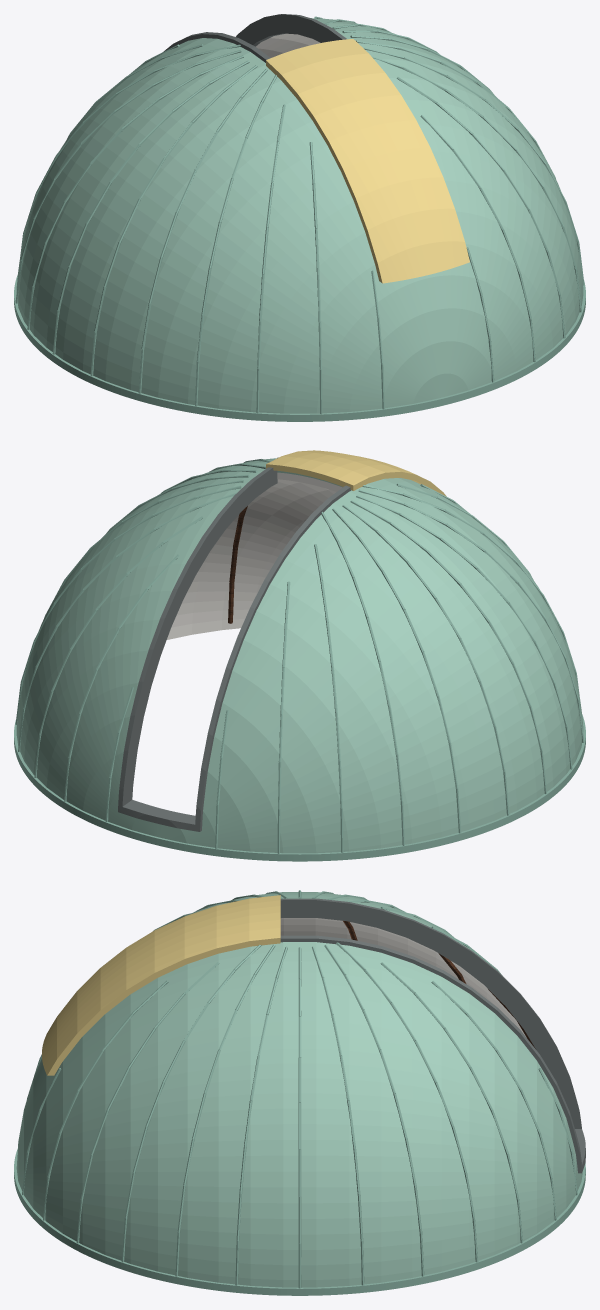
Rendered from dome_main.glb.
3 renders of one model, top to bottom at view 1: azimuth 30°, elevation 25°; view 2: azimuth 150°, elevation 25°; view 3: azimuth 270°, elevation 25°, orthographic.
Parts seen in each view (by area): view 1: dome_main_copper, dome_main_shutter, dome_main_copper_d, dome_main_iron, dome_main_dome_in; view 2: dome_main_copper, dome_main_copper_d, dome_main_dome_in, dome_main_iron, dome_main_shutter, dome_main_dkwood; view 3: dome_main_copper, dome_main_copper_d, dome_main_shutter, dome_main_iron, dome_main_dome_in.
Boxes of the visible parts, bbox=[...] form: dome_main_copper: bbox=[16, 18, 583, 413]; dome_main_shutter: bbox=[266, 39, 469, 283]; dome_main_copper_d: bbox=[14, 16, 585, 421]; dome_main_iron: bbox=[163, 14, 346, 62]; dome_main_dome_in: bbox=[256, 33, 320, 57]; dome_main_copper: bbox=[16, 458, 583, 853]; dome_main_copper_d: bbox=[14, 457, 585, 861]; dome_main_dome_in: bbox=[167, 472, 342, 639]; dome_main_iron: bbox=[118, 467, 350, 831]; dome_main_shutter: bbox=[266, 450, 446, 496]; dome_main_dkwood: bbox=[228, 506, 247, 623]; dome_main_copper: bbox=[16, 892, 582, 1287]; dome_main_copper_d: bbox=[14, 890, 585, 1295]; dome_main_shutter: bbox=[41, 895, 280, 1075]; dome_main_iron: bbox=[280, 898, 585, 1173]; dome_main_dome_in: bbox=[280, 918, 526, 1037].
Size of the model in its own units: 7.36 by 3.73 by 7.36.
6 materials, 1 textured.
